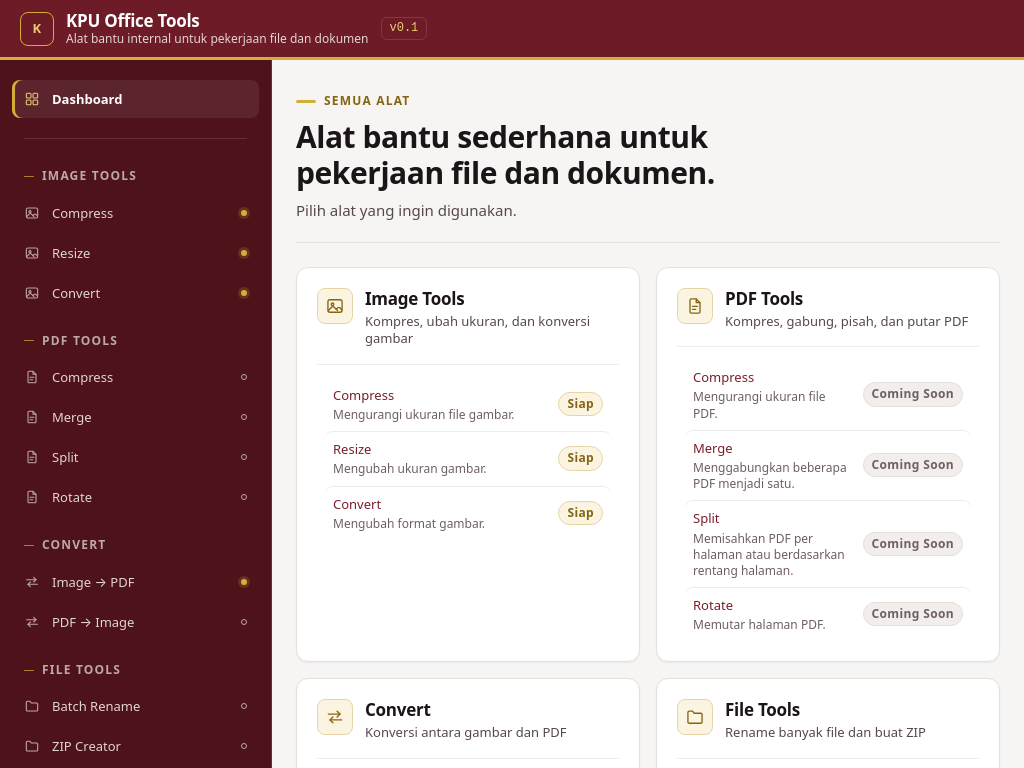
Test: navigasi: interaksi menu › klik menu Merge membuka halaman Merge
The width and height of the screenshot is (1024, 768).
Click the link "Merge" below "Dashboard".
click(72, 417)  # box [12, 398, 259, 436]
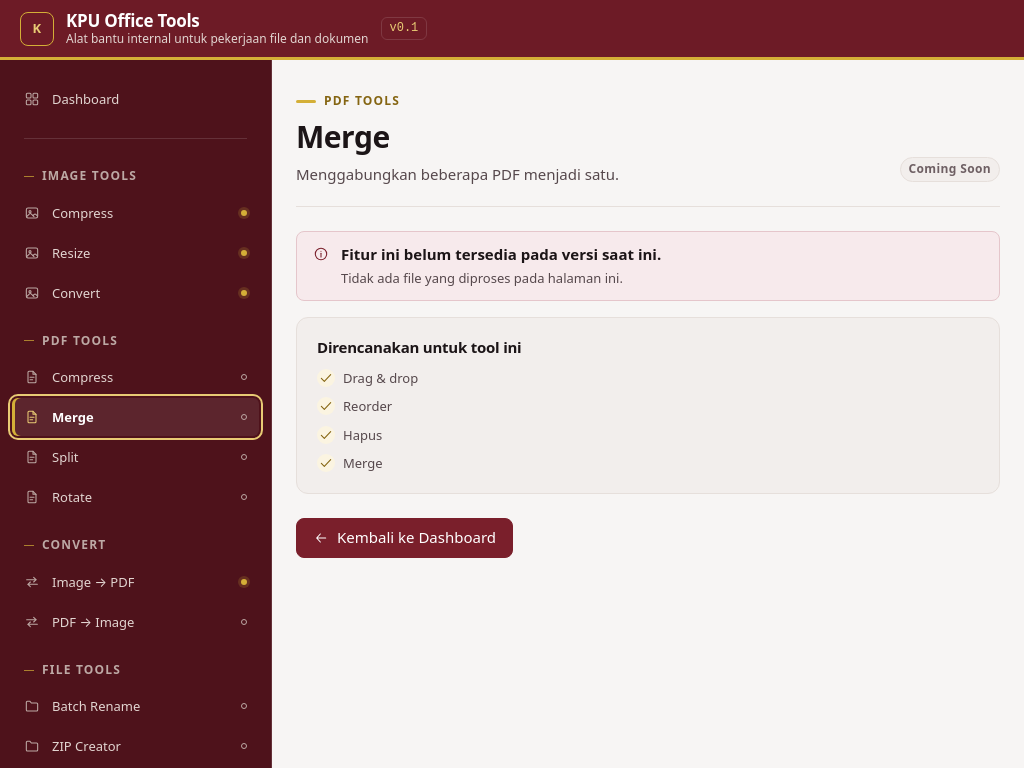
Check: the heading "Merge" is shown, box [296, 116, 390, 157]
